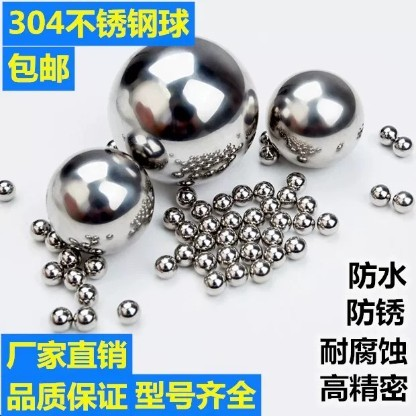ironball: (106, 36, 258, 185), (44, 140, 154, 254), (265, 68, 364, 168), (73, 305, 97, 331), (49, 305, 72, 332), (203, 269, 226, 295), (116, 299, 139, 324), (83, 254, 106, 279), (193, 250, 216, 275), (224, 261, 247, 286), (248, 257, 270, 283), (154, 254, 177, 278), (283, 235, 306, 259), (291, 211, 314, 234), (391, 189, 413, 213), (63, 266, 85, 290), (173, 242, 195, 266), (41, 261, 63, 285), (263, 243, 285, 267), (316, 212, 338, 235), (239, 240, 262, 262), (216, 244, 238, 267), (162, 206, 184, 229), (175, 220, 197, 242), (75, 282, 96, 305), (57, 247, 80, 268), (369, 183, 390, 205), (391, 135, 412, 157), (29, 218, 50, 240), (258, 143, 279, 165), (231, 183, 252, 205), (276, 185, 296, 208), (175, 185, 195, 208), (189, 199, 212, 219), (252, 180, 273, 201), (269, 210, 291, 230), (212, 192, 233, 212), (238, 223, 260, 242), (197, 214, 219, 233), (215, 226, 237, 245), (261, 226, 283, 245), (192, 231, 214, 250), (242, 206, 264, 225), (378, 124, 397, 145), (295, 194, 316, 213), (285, 171, 305, 190), (259, 195, 279, 214), (220, 210, 241, 228), (0, 179, 15, 201)
